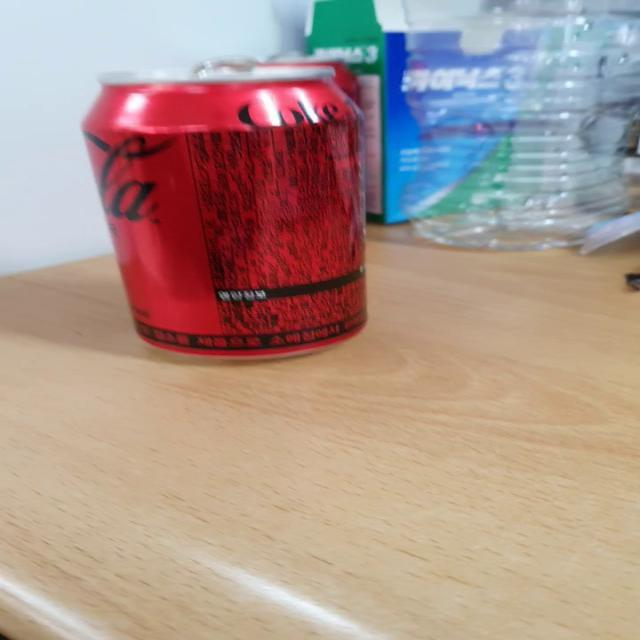coca-cola: (70, 58, 410, 378)
